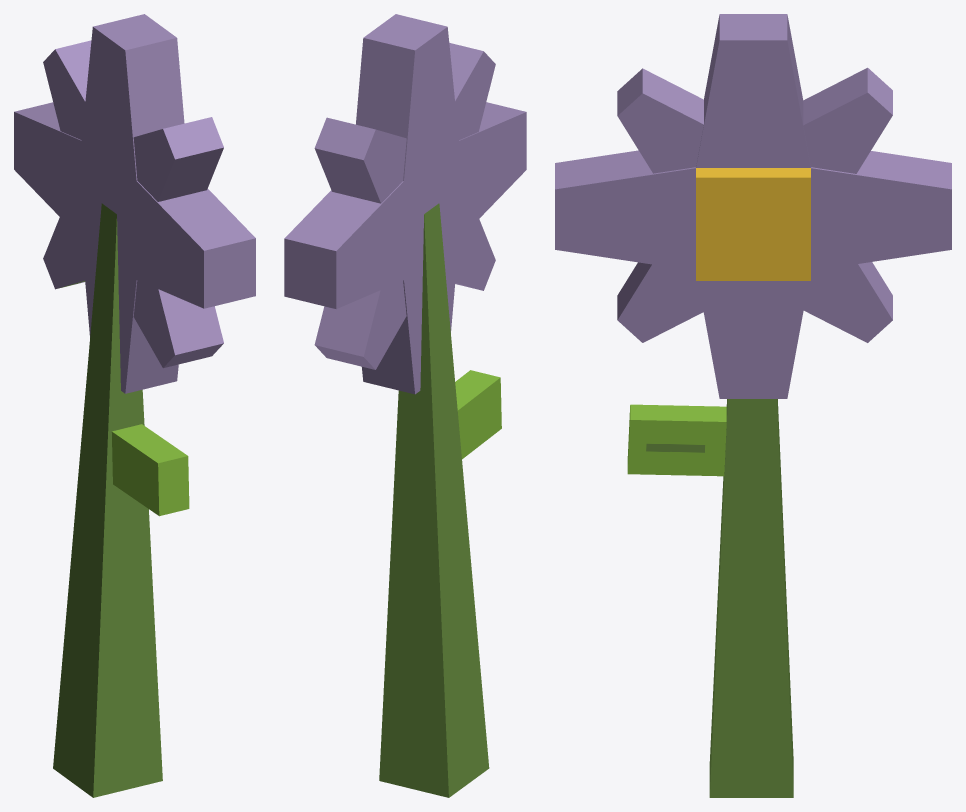
File: fleur1.glb
The picture shows the model from 3 angles, left to right: view 1: azimuth 30°, elevation 25°; view 2: azimuth 150°, elevation 25°; view 3: azimuth 270°, elevation 25°; orthographic projection. The views are drawn at different scales.
Parts seen in each view (by area): view 1: Cube; view 2: Cube; view 3: Cube.
Part boxes in pixels (x1,y1,x2,y2): Cube: (14,14,255,797); Cube: (284,14,526,797); Cube: (555,14,951,797).
Bounding box in the file's own units: 0.1545 × 1.01 × 0.4723.
1 material, 1 textured.
